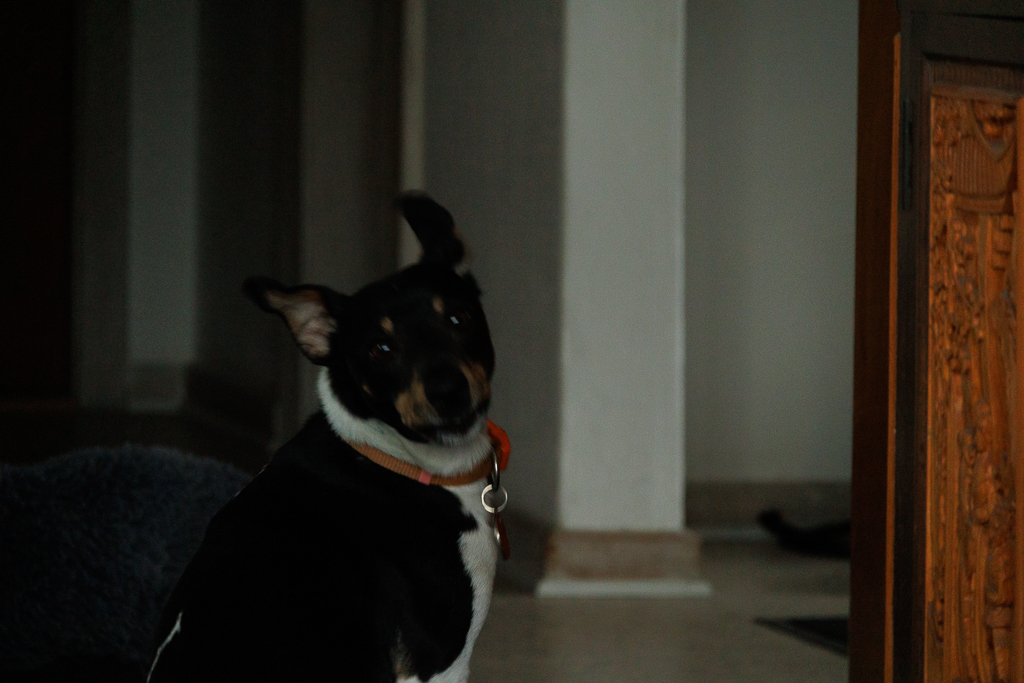Dog: (139, 181, 520, 683)
